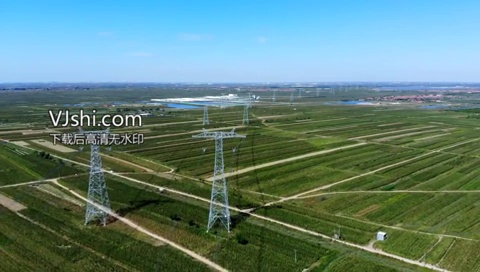tower_body: (187, 125, 249, 236)
tower_foot: (206, 209, 233, 233)
tower_head: (190, 128, 245, 140)
